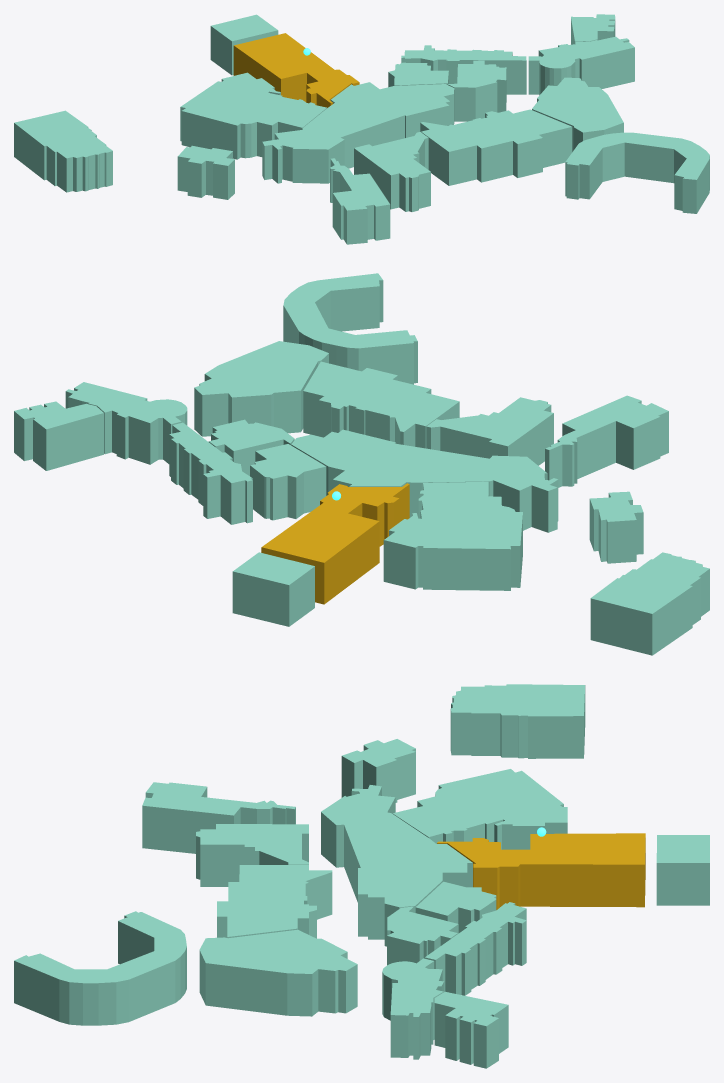
File: sheridan.gltf
3 views of the same model, one above another, from view 1: azimuth 30°, elevation 25°; view 2: azimuth 150°, elevation 25°; view 3: azimuth 270°, elevation 25° (orthographic). The views are drawn at different scales.
Parts seen in each view (by area): view 1: b-wing, c-wing, residence, animation-centre, athletics-centre, aa-wing, levy-centre, e-wing, g-wing, s-wing, student-centre, daycare-centre (+4 smaller); view 2: animation-centre, b-wing, residence, aa-wing, c-wing, athletics-centre, s-wing, g-wing, e-wing, levy-centre, h-wing, k-wing (+4 smaller); view 3: b-wing, residence, aa-wing, s-wing, athletics-centre, animation-centre, c-wing, g-wing, h-wing, e-wing, levy-centre, k-wing (+4 smaller).
Part boxes in pixels (left/top/right/bottom): b-wing: left=262, top=82, right=454, bottom=183; c-wing: left=420, top=109, right=572, bottom=185; residence: left=565, top=132, right=709, bottom=213; animation-centre: left=180, top=72, right=326, bottom=159; athletics-centre: left=14, top=110, right=112, bottom=192; aa-wing: left=233, top=33, right=359, bottom=107; levy-centre: left=528, top=36, right=634, bottom=95; e-wing: left=354, top=132, right=430, bottom=211; g-wing: left=330, top=158, right=390, bottom=244; s-wing: left=532, top=77, right=623, bottom=151; student-centre: left=447, top=60, right=506, bottom=121; daycare-centre: left=177, top=145, right=234, bottom=199; animation-centre: left=383, top=481, right=522, bottom=590; b-wing: left=291, top=429, right=558, bottom=532; residence: left=283, top=273, right=417, bottom=384; aa-wing: left=261, top=483, right=409, bottom=604; c-wing: left=303, top=361, right=459, bottom=448; athletics-centre: left=590, top=552, right=709, bottom=655; s-wing: left=194, top=341, right=328, bottom=436; g-wing: left=545, top=395, right=668, bottom=487; e-wing: left=426, top=397, right=553, bottom=465; levy-centre: left=65, top=382, right=187, bottom=464; h-wing: left=169, top=422, right=252, bottom=524; k-wing: left=14, top=401, right=103, bottom=470; b-wing: left=321, top=785, right=472, bottom=946; residence: left=14, top=911, right=186, bottom=1025; aa-wing: left=437, top=833, right=645, bottom=909; s-wing: left=199, top=929, right=357, bottom=1016; athletics-centre: left=450, top=684, right=585, bottom=758; animation-centre: left=392, top=769, right=567, bottom=849; c-wing: left=217, top=865, right=332, bottom=938; g-wing: left=142, top=782, right=295, bottom=853; h-wing: left=424, top=902, right=526, bottom=995; e-wing: left=196, top=824, right=308, bottom=886; levy-centre: left=382, top=958, right=444, bottom=1059; k-wing: left=434, top=991, right=508, bottom=1068.
Size of the model in its own units: 173 by 15.83 by 148.
